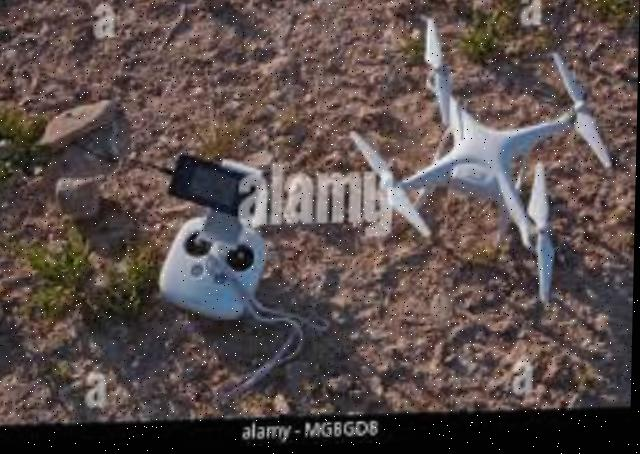drone: (344, 26, 632, 305)
